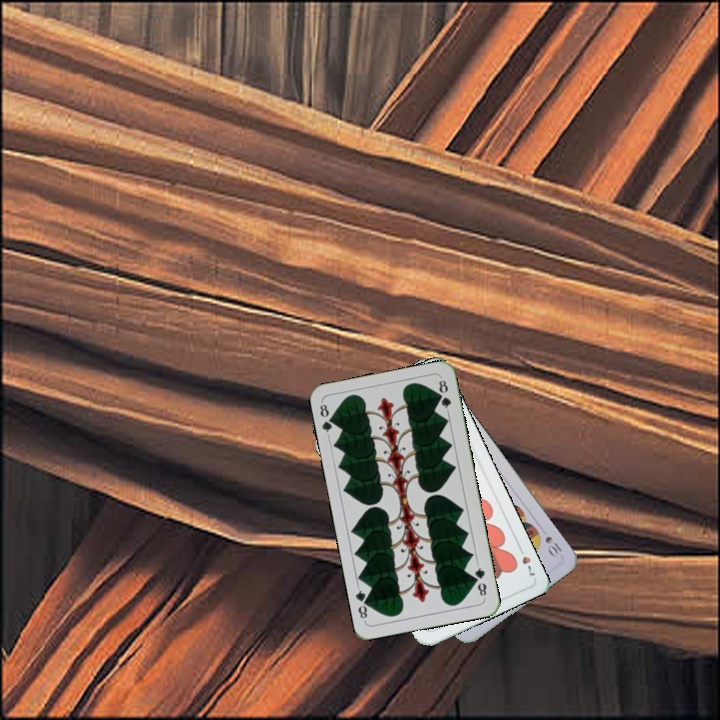G8: (316, 400, 338, 439), (470, 560, 489, 601)
H7: (514, 542, 538, 578)
S10: (541, 532, 565, 558)
